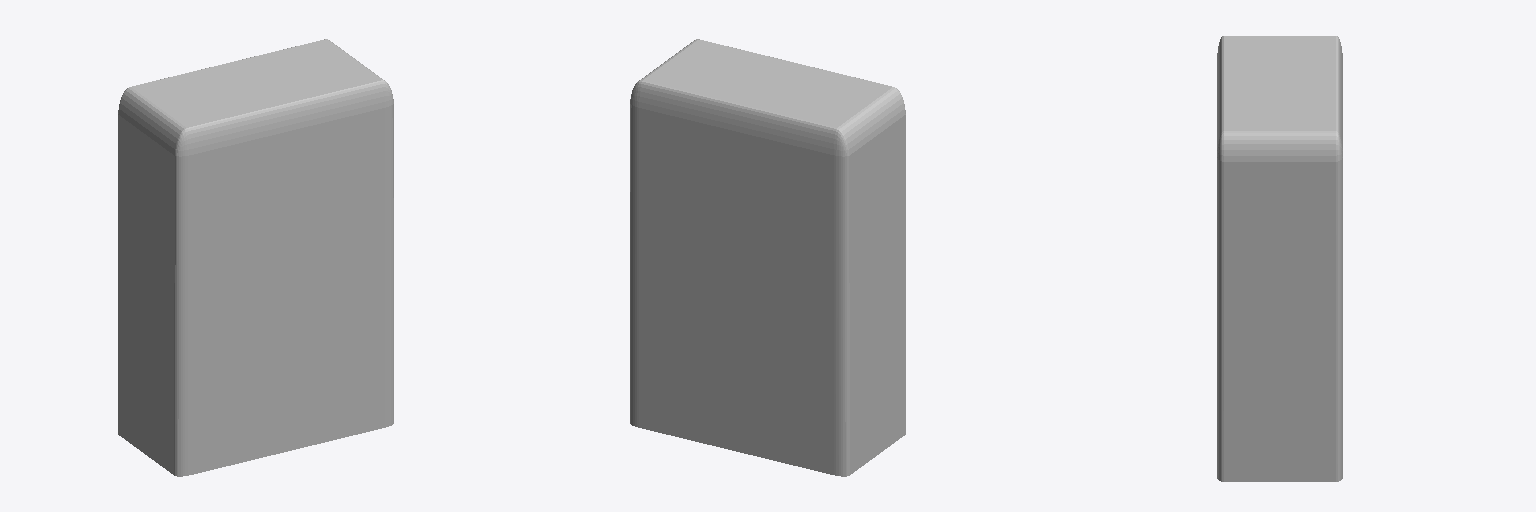
Rendered from 长条尾.obj.
The picture shows the model from 3 angles: view 1: azimuth 30°, elevation 25°; view 2: azimuth 150°, elevation 25°; view 3: azimuth 270°, elevation 25°; orthographic projection.
Parts seen in each view (by area): view 1: Cube; view 2: Cube; view 3: Cube.
Boxes of the visible parts, box(x1,y1,x2,y2) form: Cube: box(118, 39, 393, 476); Cube: box(630, 39, 905, 476); Cube: box(1217, 36, 1342, 481).
Size of the model in its own units: 2 by 3 by 1.